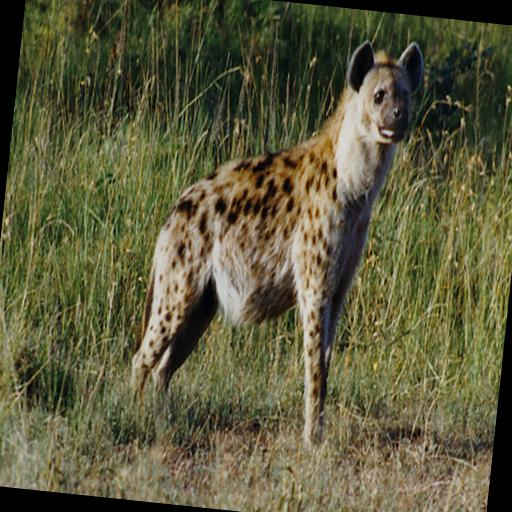hyenas: (123, 0, 475, 497)
